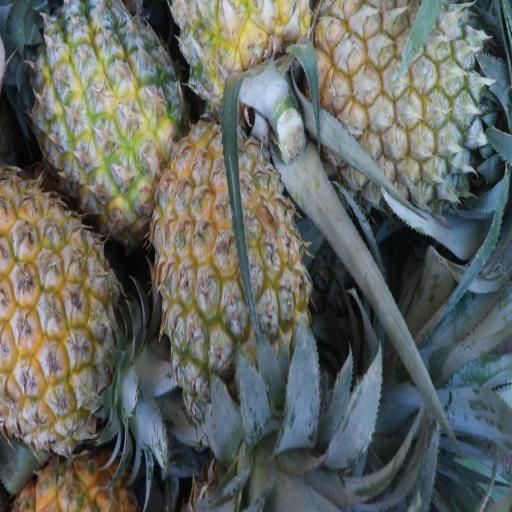------------------------------: (162, 129, 297, 416)
Pineapple - v8 v1: (32, 0, 177, 219), (0, 186, 125, 440)
